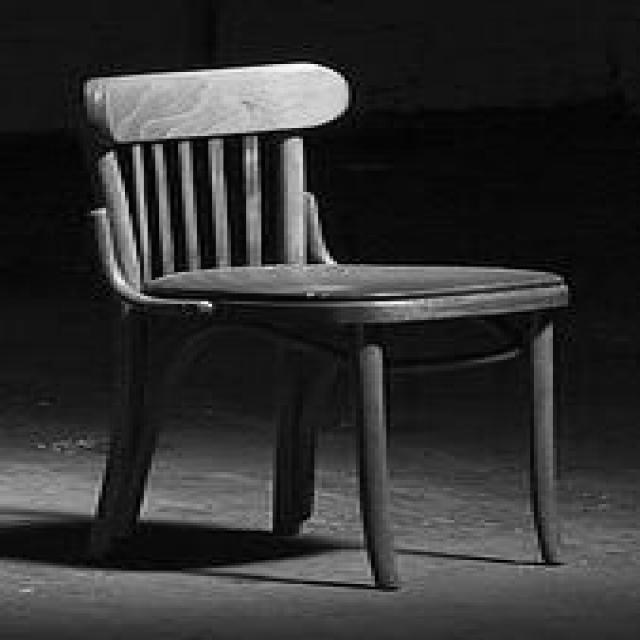chair: (71, 62, 572, 594)
